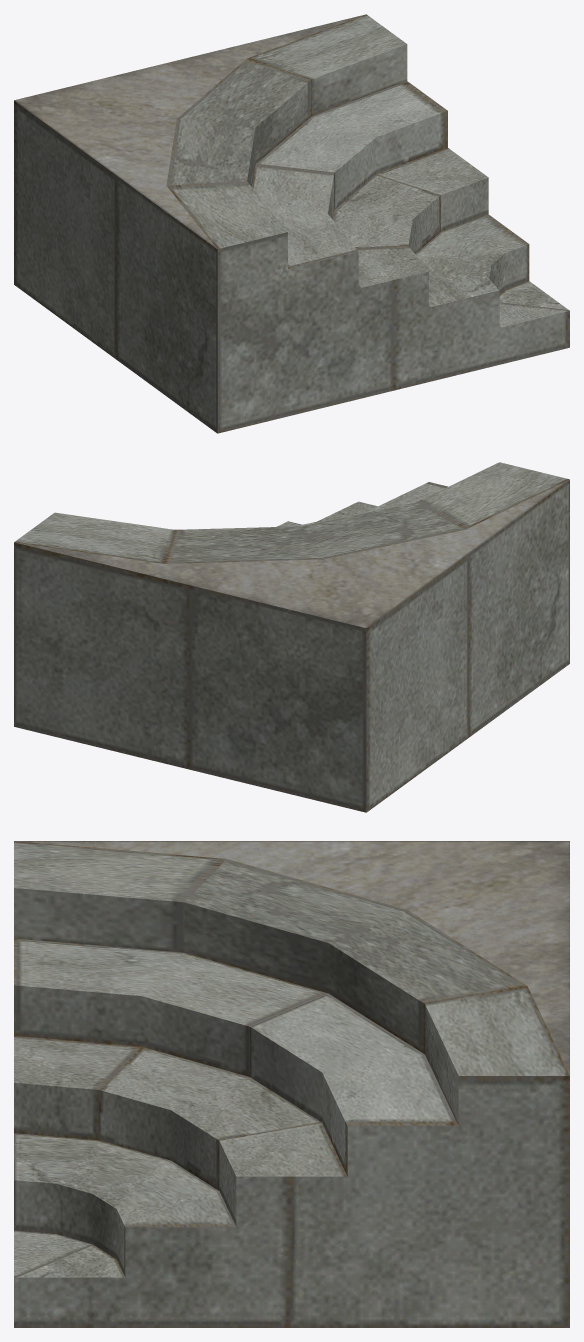
Rendered from steps_1x1_cnr_inv_b.fbx.
3 renders of one model, top to bottom at view 1: azimuth 30°, elevation 25°; view 2: azimuth 150°, elevation 25°; view 3: azimuth 270°, elevation 25°, orthographic. The views are drawn at different scales.
Visible parts, largest first — view 1: steps_1x1_cnr_inv_b; view 2: steps_1x1_cnr_inv_b; view 3: steps_1x1_cnr_inv_b.
Part boxes in pixels (box(x1,y1,x2,y2)): steps_1x1_cnr_inv_b: box(14, 14, 569, 433); steps_1x1_cnr_inv_b: box(14, 462, 569, 812); steps_1x1_cnr_inv_b: box(14, 841, 569, 1327).
Size of the model in its own units: 100 by 50 by 100.
